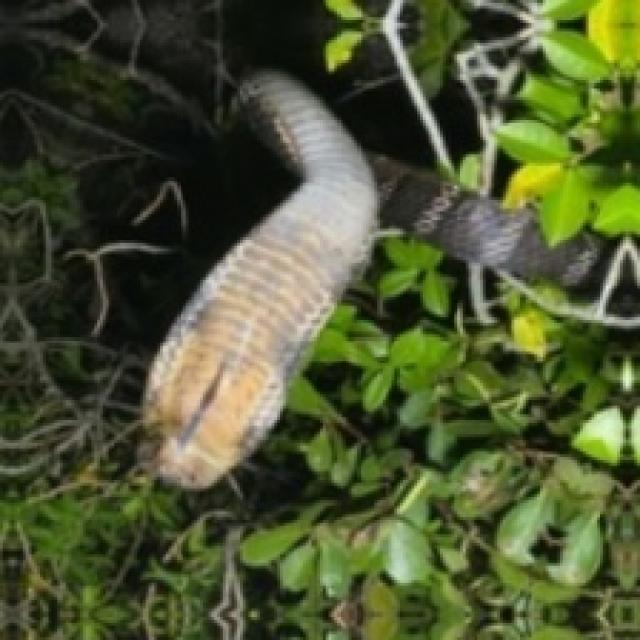king cobra: (143, 71, 594, 486)
